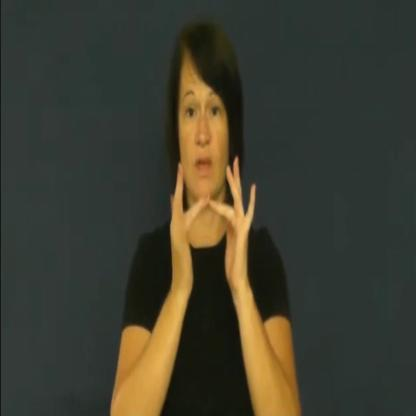Internet: (170, 150, 266, 304)
